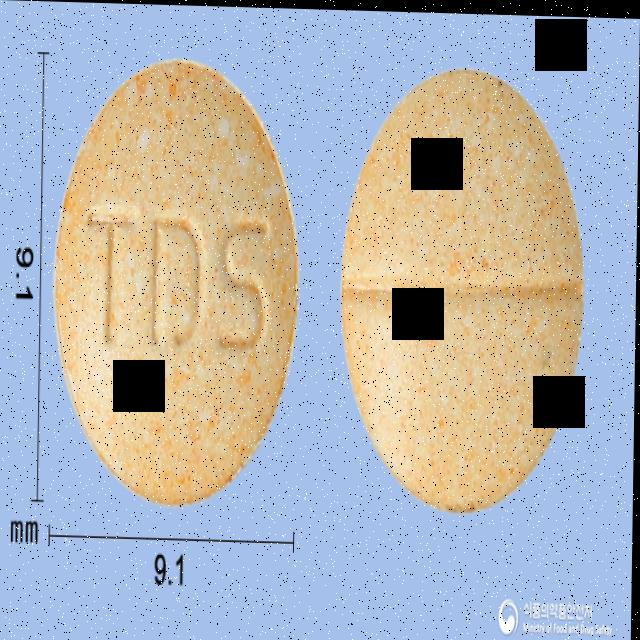Ciplus: (53, 55, 302, 507), (340, 62, 588, 510)
